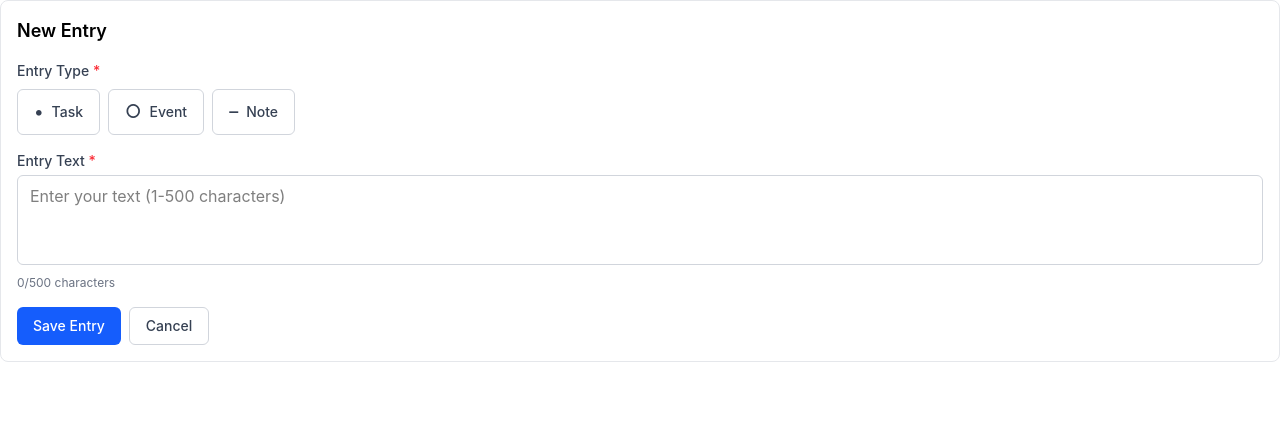
Test: EntryForm › prevents save when no type is selected (Requirement 4.1)
The width and height of the screenshot is (1280, 441).
Enter text but don't select type
In the text box labelled "Entry Text *": (640, 220) [17,175,1263,265], type "Some text"
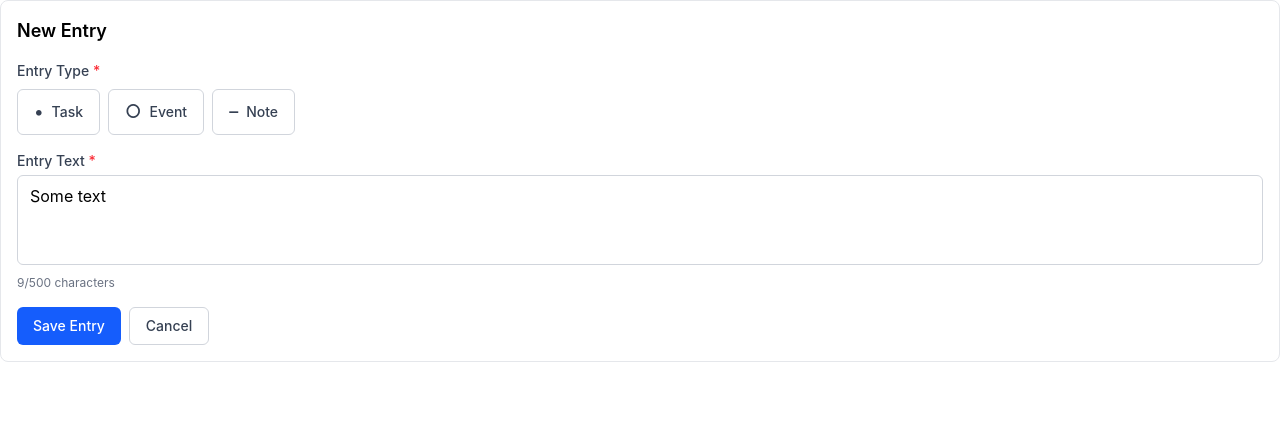
Click the button "Save Entry": click(69, 326) [17,307,121,345]
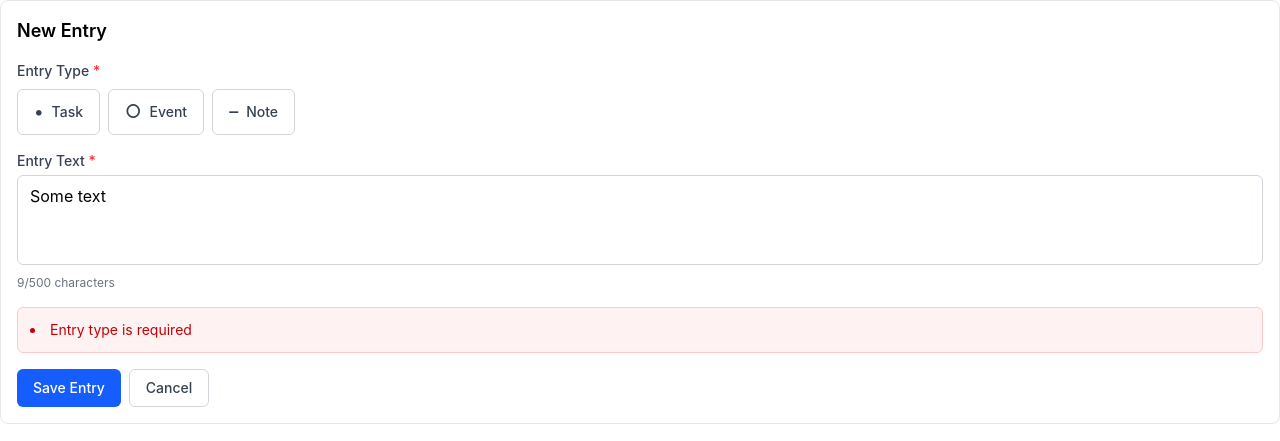
Now the message "Entry type is required" is shown, box [17,307,1263,353]
Now the list item "Entry type is required" is shown, box [50,321,192,338]
